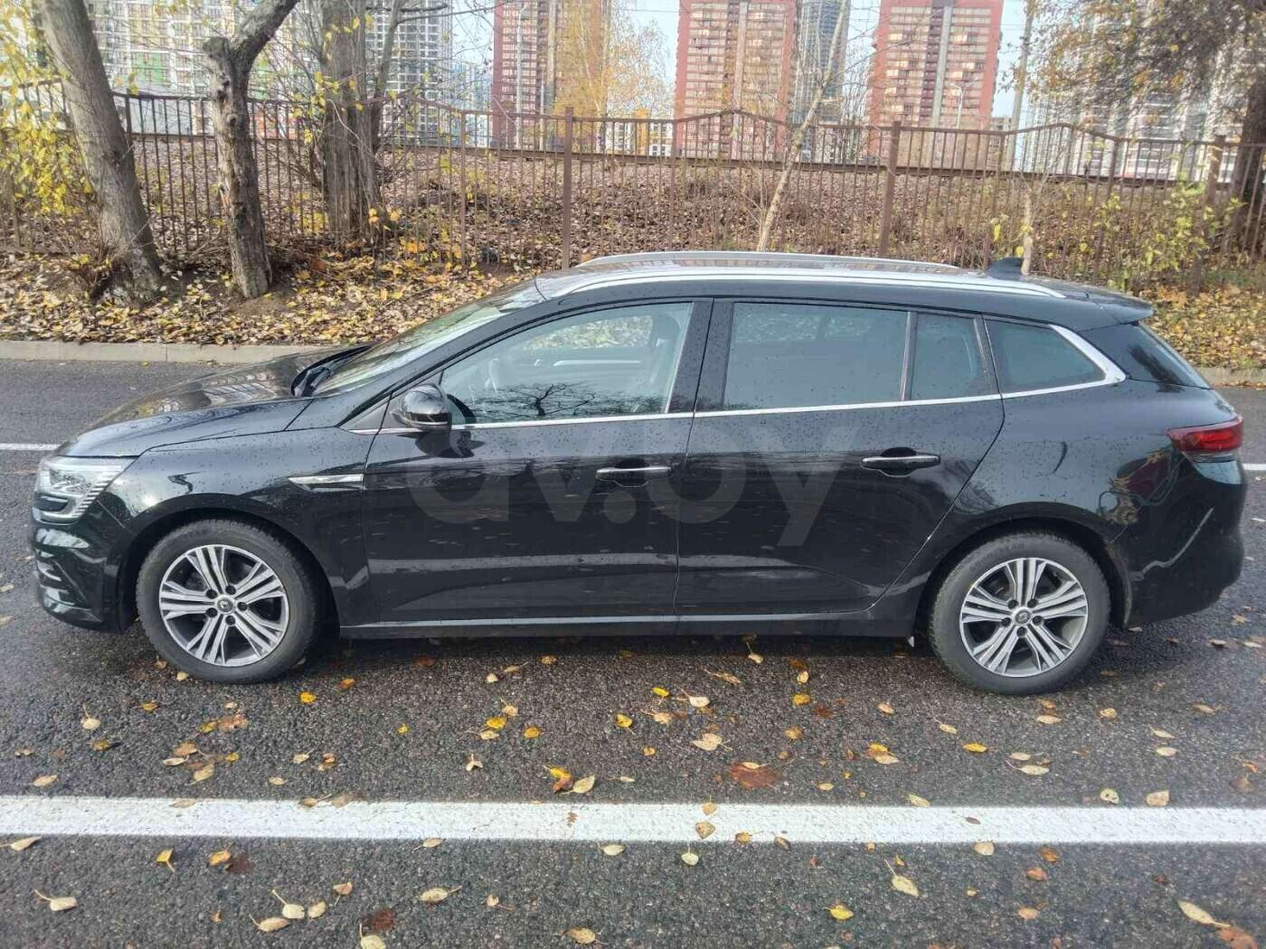Megane_2020: (16, 249, 1266, 714)
